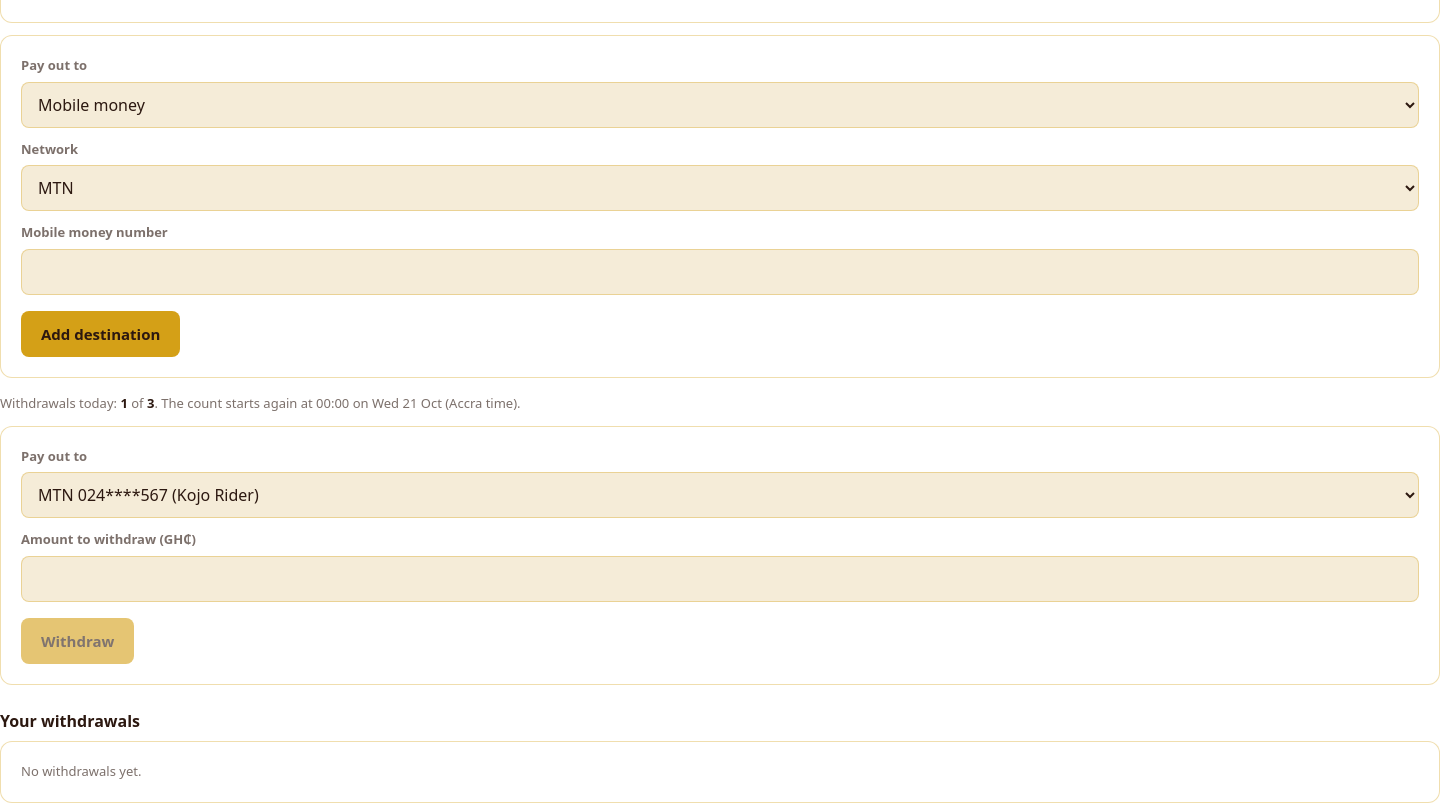
Test case: RiderWalletHome › a daily_count_limit refusal shows the server's text
The width and height of the screenshot is (1440, 803).
(page scrolled)
In the field labelled "Amount to withdraw (GH₵)": (720, 578) [21, 556, 1419, 602], type "50"
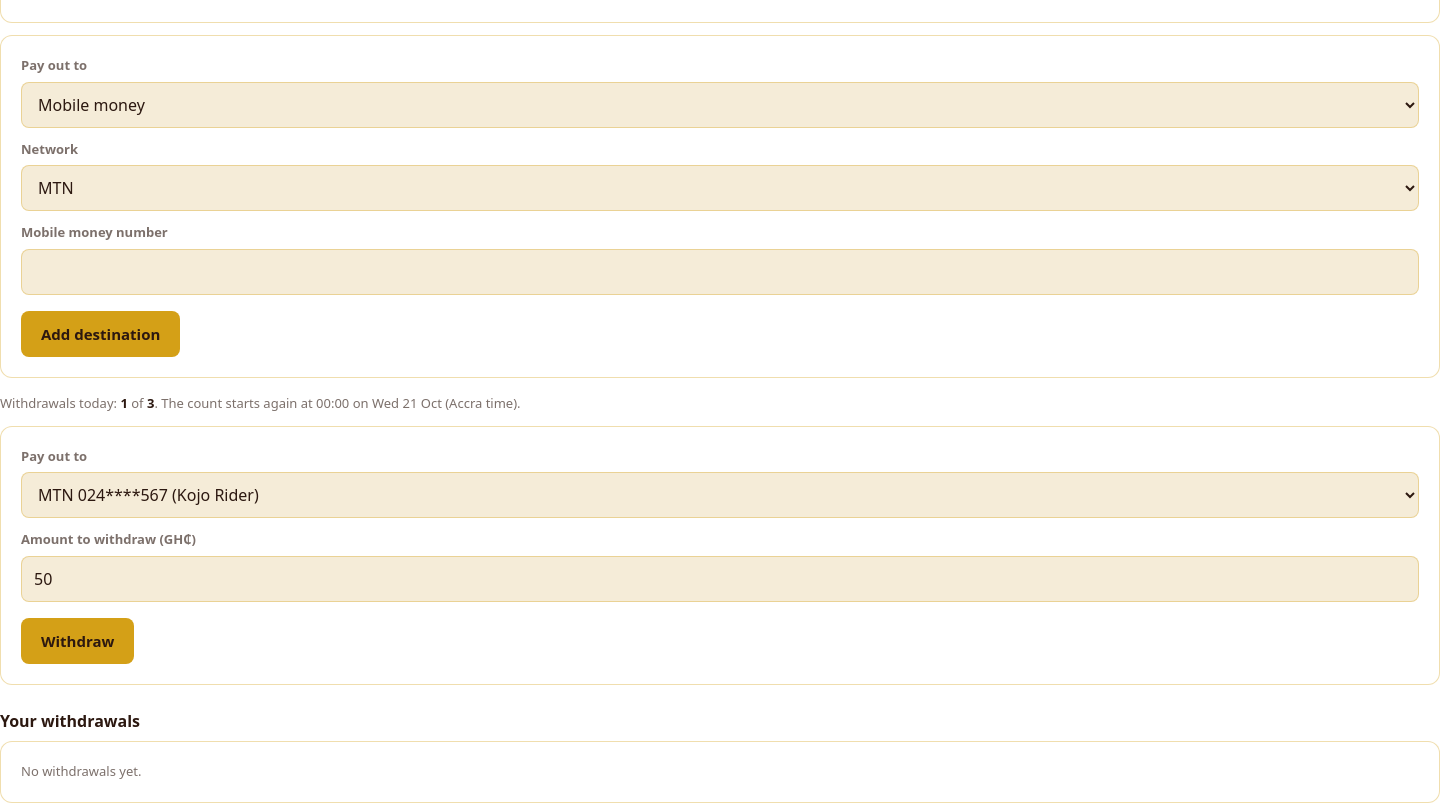
Click the button "Withdraw": (78, 641) [21, 618, 134, 664]
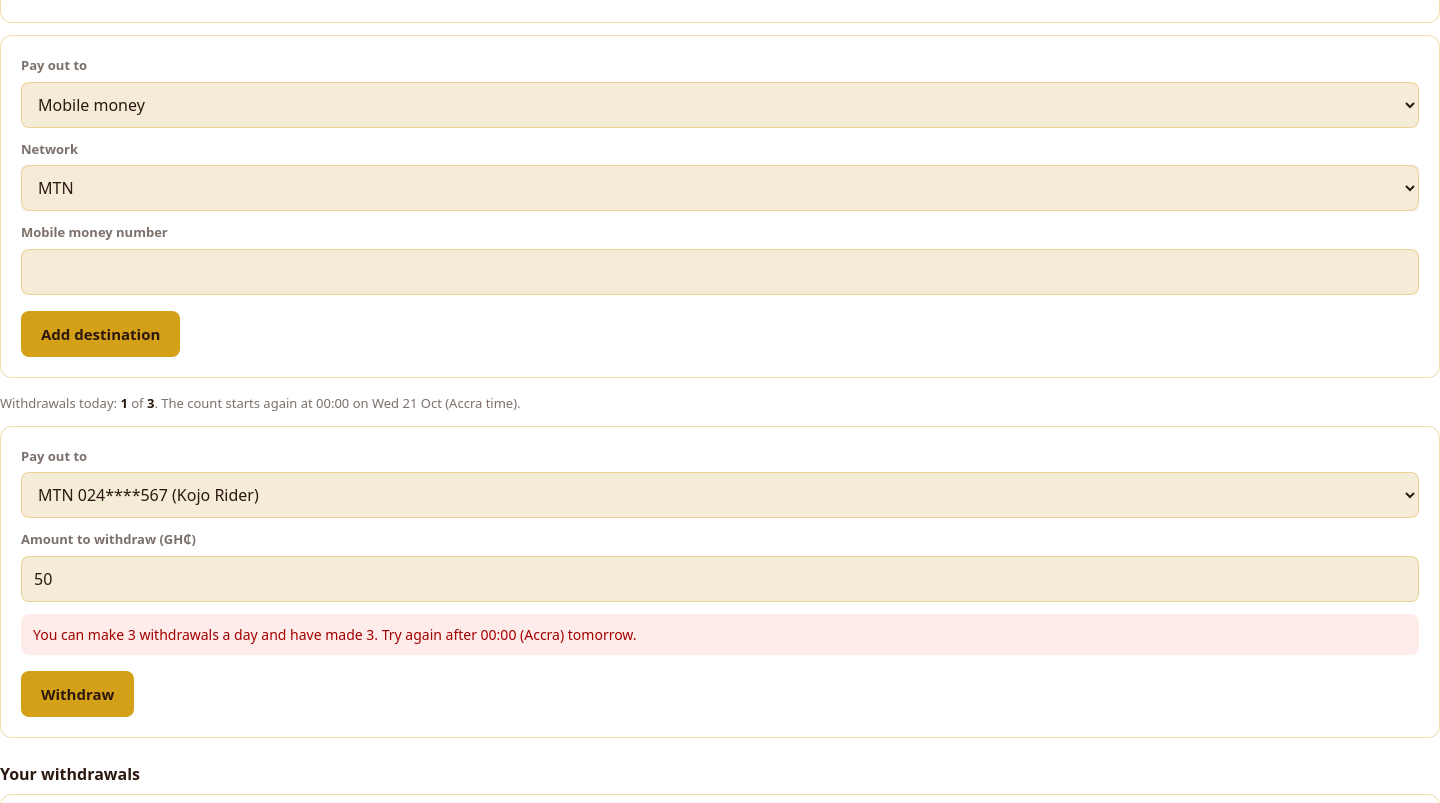
Now the text "You can make 3 withdrawals a day and have made 3. Try again after 00:00 (Accra) tomorrow." is shown, box [33, 624, 637, 644]
